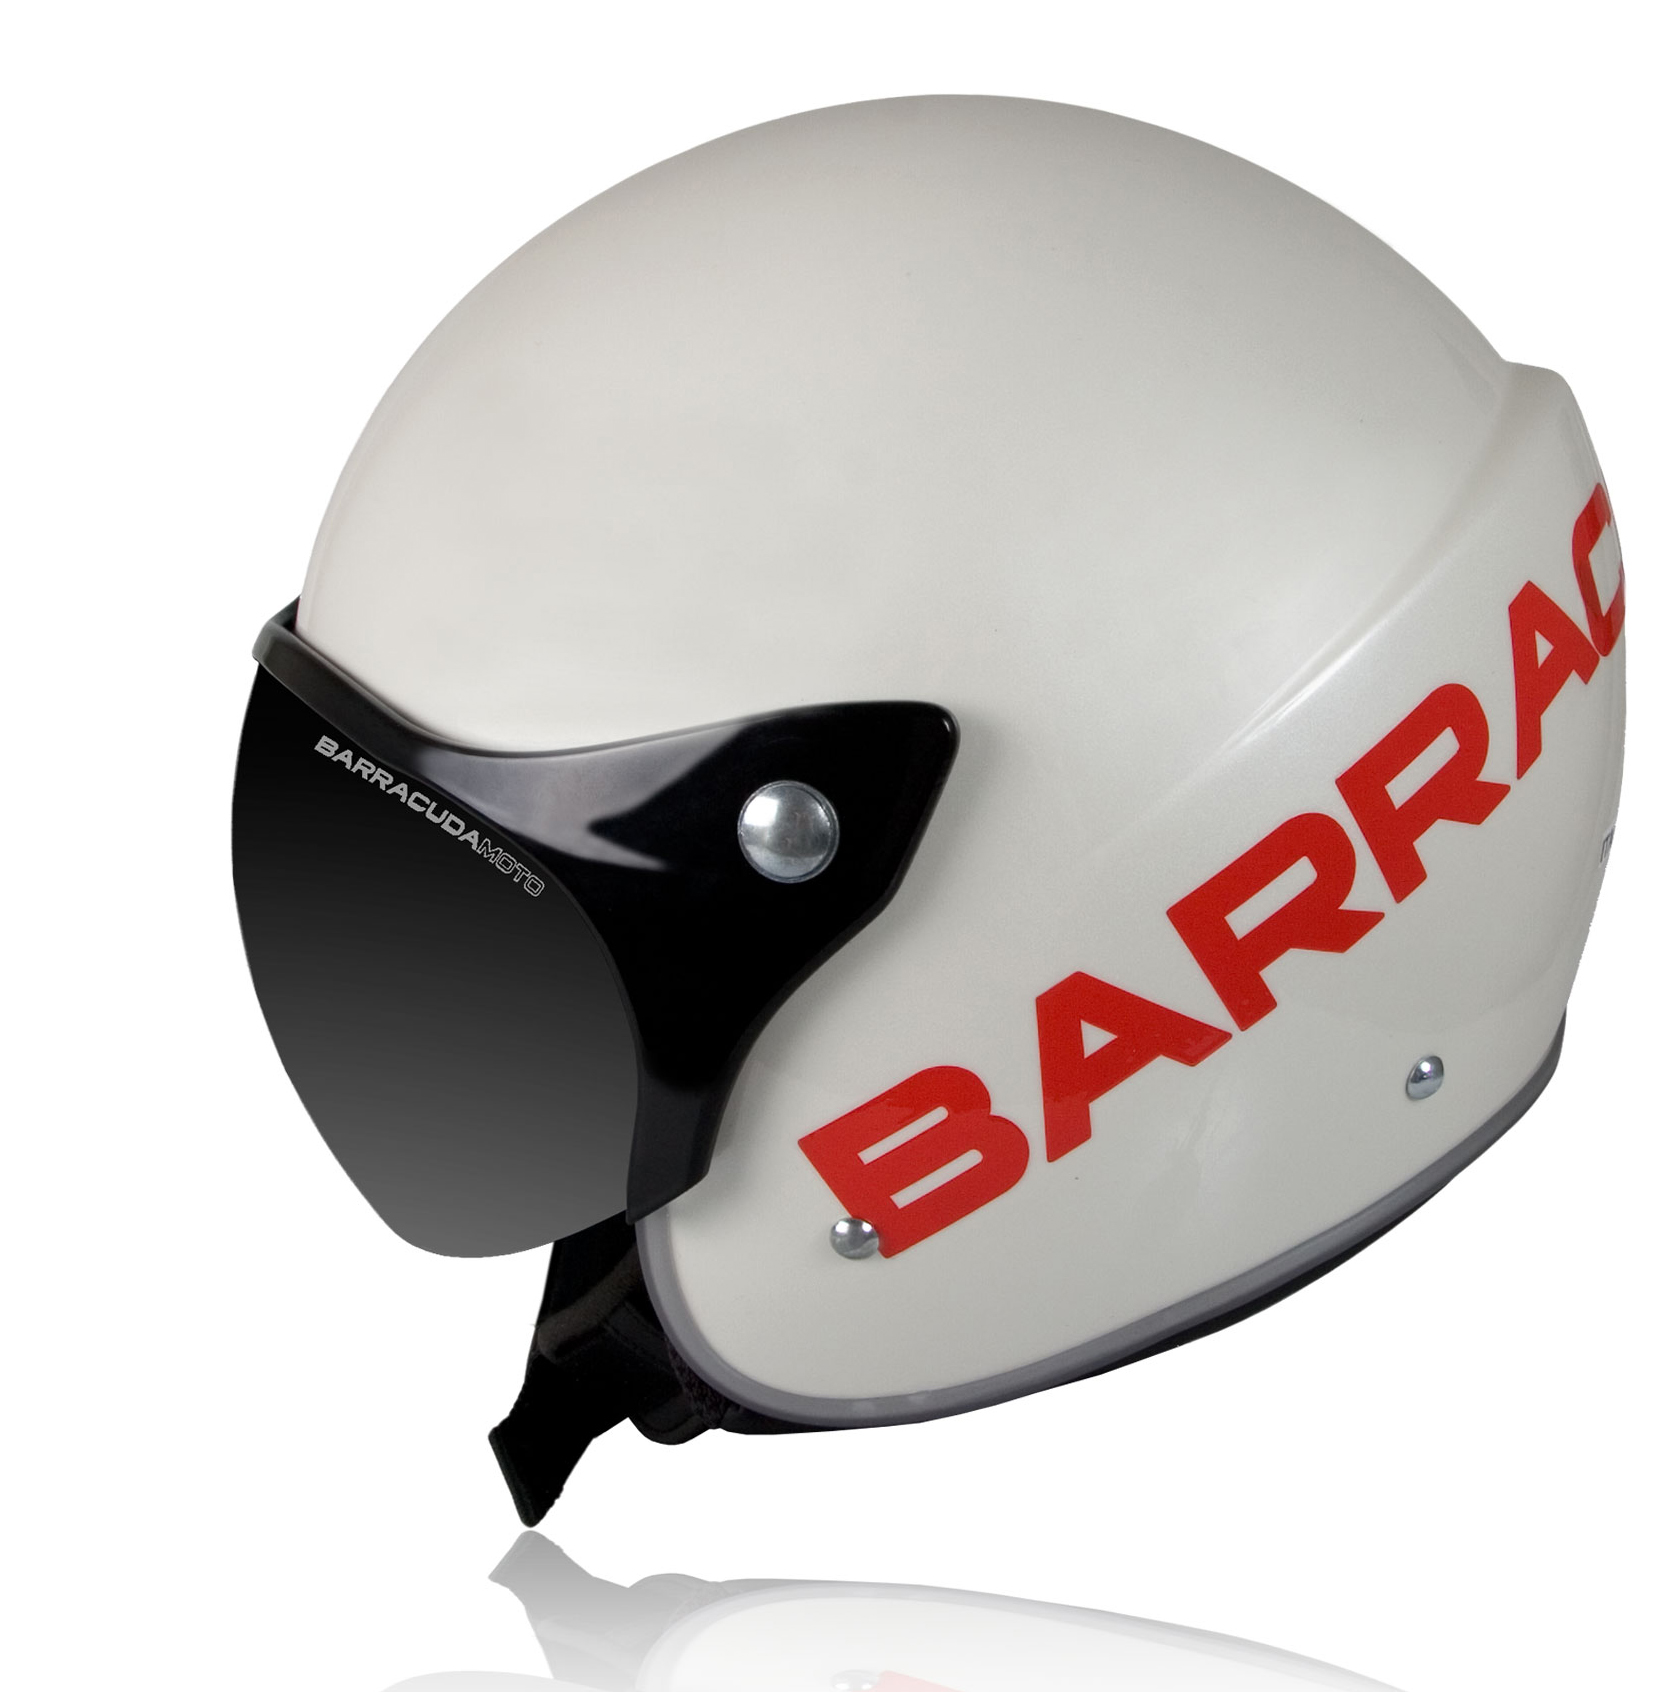helmet: (276, 160, 1614, 1416)
